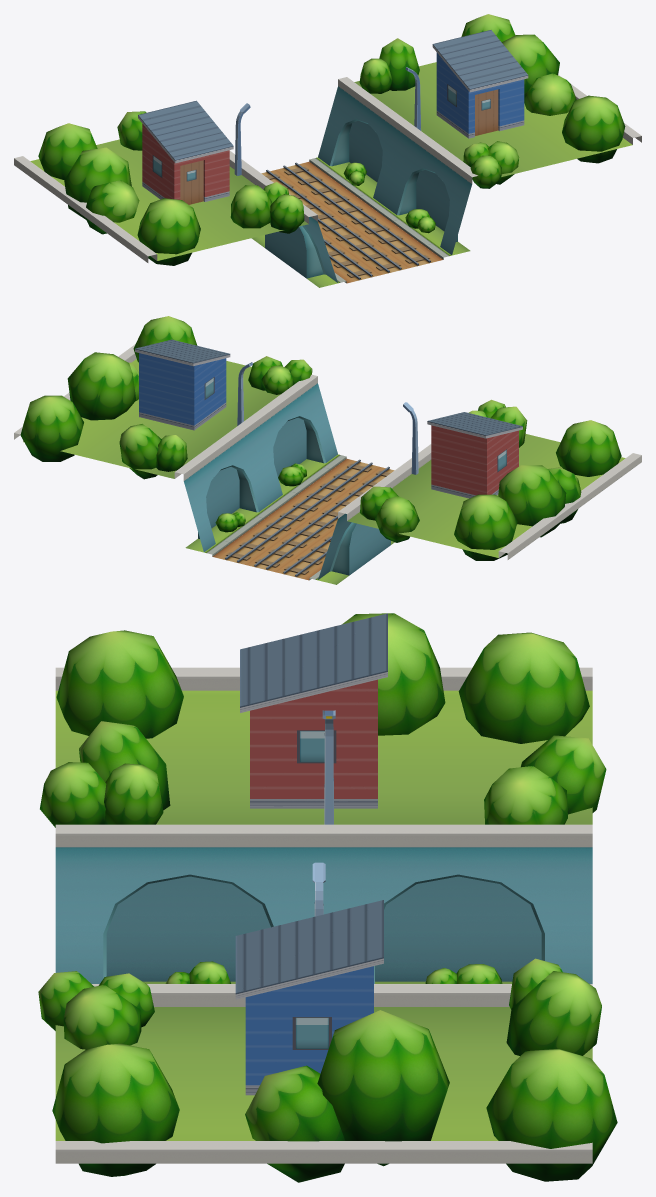
The model's file is Road02.FBX.
3 renders of one model, top to bottom at view 1: azimuth 30°, elevation 25°; view 2: azimuth 150°, elevation 25°; view 3: azimuth 270°, elevation 25°, orthographic. The views are drawn at different scales.
Visible parts, largest first — view 1: Object (×2), Rail; view 2: Object (×2), Rail; view 3: Object (×2).
Boxes of the visible parts, left/top/right/bottom form: Object (×2): left=14, top=14, right=641, bottom=287; Rail: left=261, top=161, right=442, bottom=283; Object (×2): left=14, top=316, right=641, bottom=584; Rail: left=213, top=458, right=394, bottom=580; Object (×2): left=38, top=613, right=617, bottom=1182.
Bounding box in the file's own units: 3403 × 924 × 1727.
